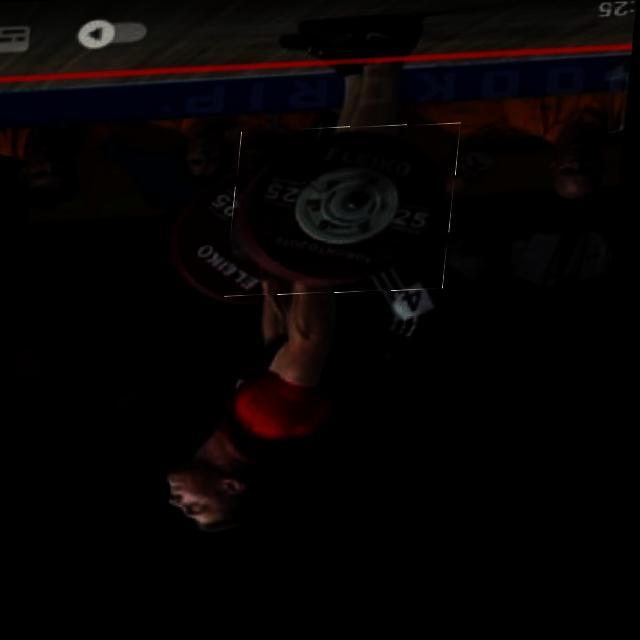barbell: (232, 127, 464, 302)
